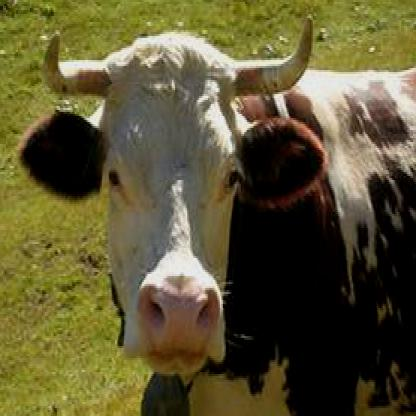cow: (16, 16, 414, 414)
